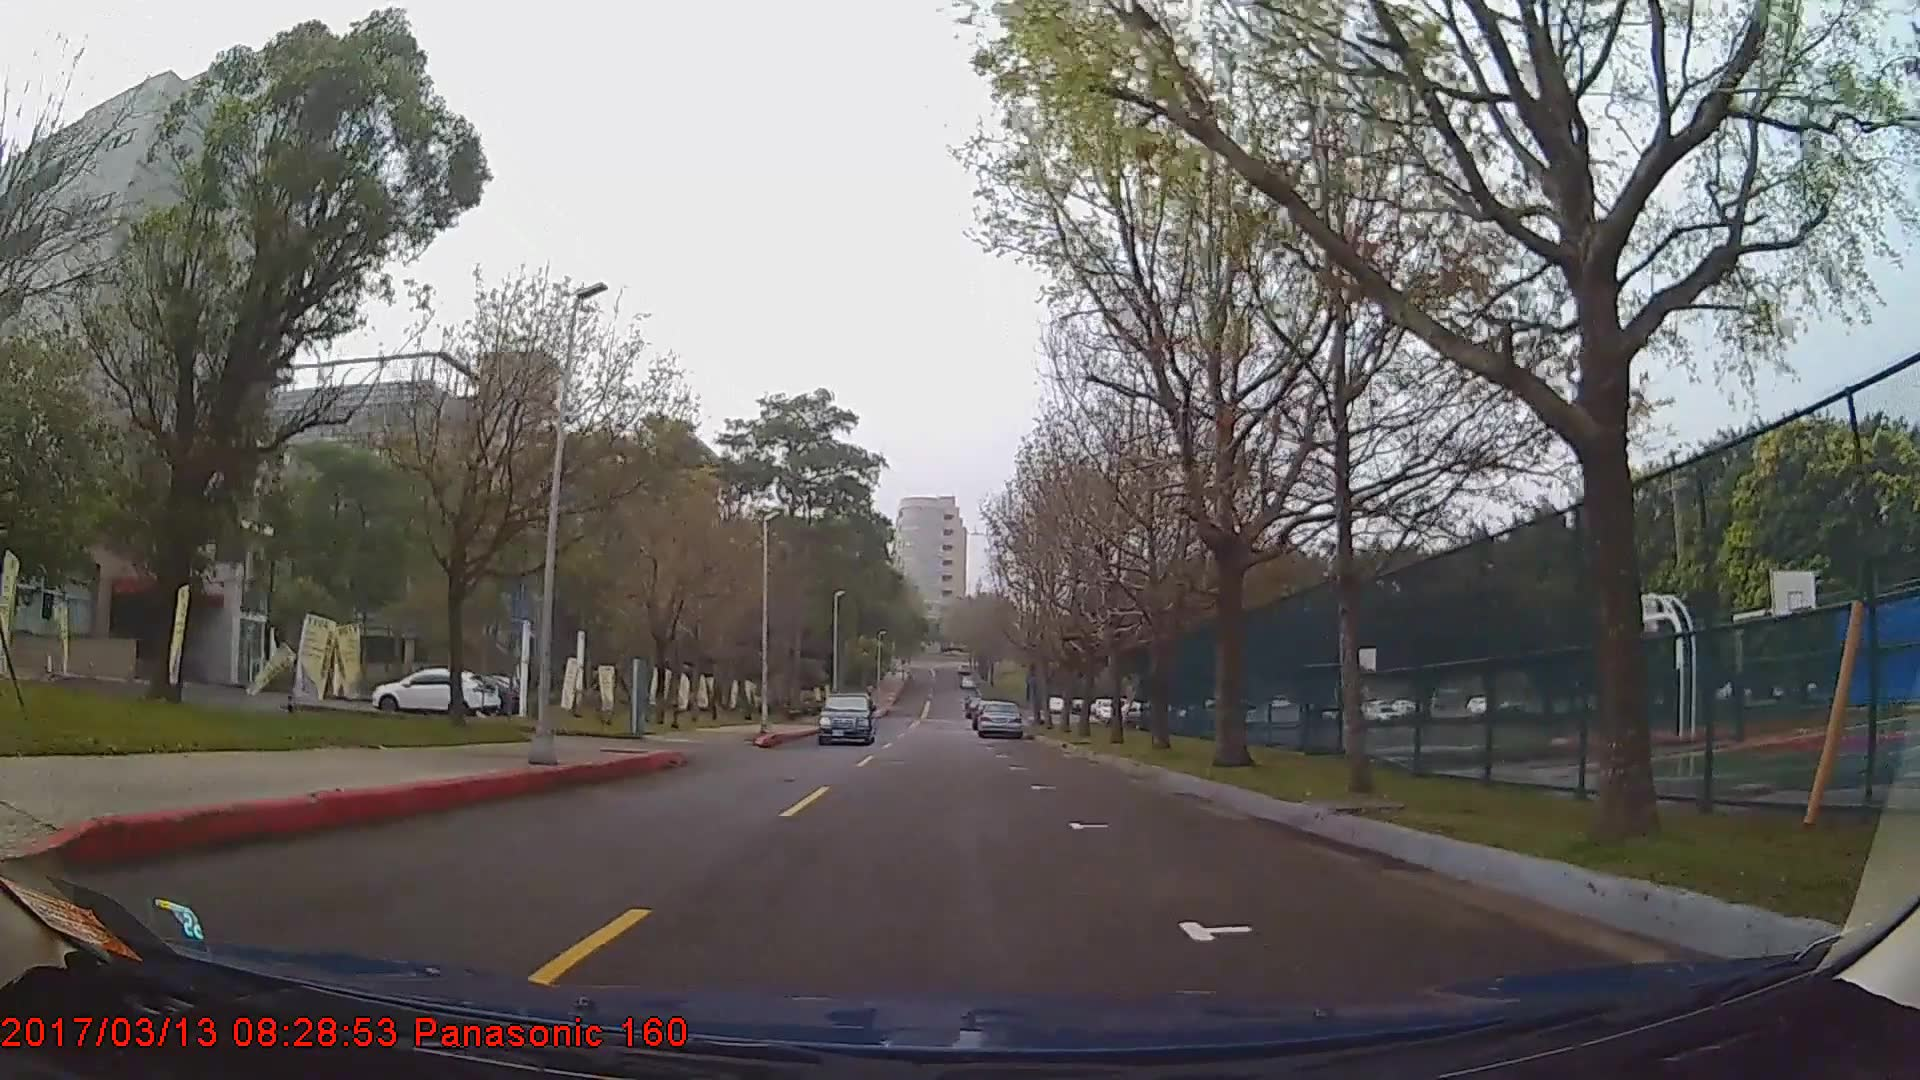vehicle: (368, 662, 496, 717), (816, 691, 873, 745), (975, 698, 1021, 738)
